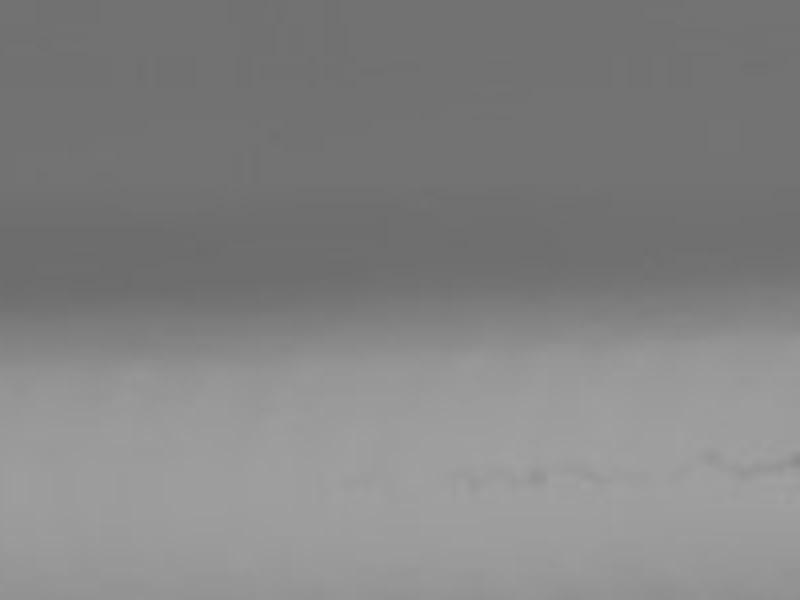defect: (757, 458, 791, 478), (704, 444, 727, 471), (525, 464, 545, 489), (734, 462, 752, 484), (467, 474, 485, 491)
